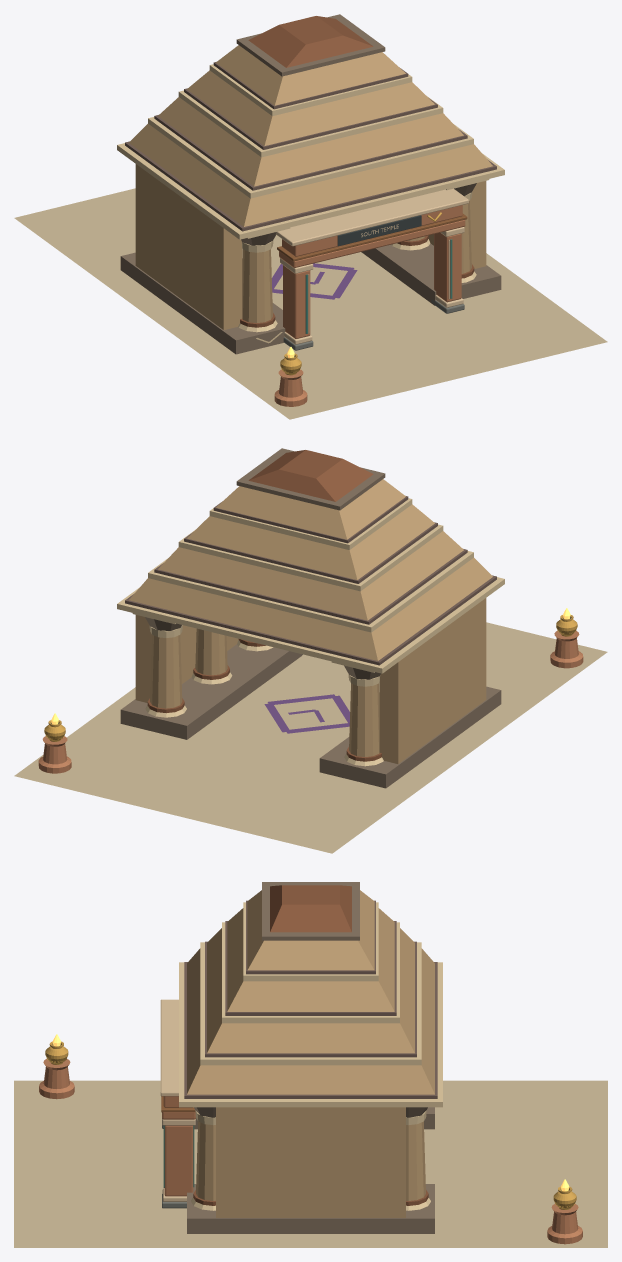
File: room-pyramid_s.glb
The picture shows the model from 3 angles, top to bottom: view 1: azimuth 30°, elevation 25°; view 2: azimuth 150°, elevation 25°; view 3: azimuth 270°, elevation 25°; orthographic projection. The views are drawn at different scales.
Visible parts, largest first — view 1: Surveyed floor · room-pyramid_s, Wing -1 inner return, Course 1 battered wall, Course 2 battered wall, Course 3 battered wall, Course 4 battered wall, Ridge crown, Shelter drip mould.001, Course 1 cornice, Wing -1 plinth, Wing 1 plinth, Course 2 cornice (+17 smaller); view 2: Surveyed floor · room-pyramid_s, Wing -1 inner return, Course 1 battered wall, Course 2 battered wall, Course 3 battered wall, Wing 1 plinth, Course 4 battered wall, Ridge crown, Course 1 cornice, Wing -1 plinth, Course 2 cornice, Wing 1 inner return (+12 smaller); view 3: Surveyed floor · room-pyramid_s, Wing 1 inner return, Course 1 battered wall, Course 2 battered wall, Course 3 battered wall, Course 4 battered wall, Wing 1 plinth, Course 1 cornice, Ridge crown, Course 2 cornice, Course 3 cornice, Fold post.003 (+11 smaller).
Part boxes in pixels (x1,y1,x2,y2): Surveyed floor · room-pyramid_s: (14, 188, 607, 419); Wing -1 inner return: (135, 164, 242, 329); Course 1 battered wall: (129, 124, 492, 226); Course 2 battered wall: (158, 97, 463, 186); Course 3 battered wall: (187, 70, 434, 145); Course 4 battered wall: (216, 45, 405, 105); Ridge crown: (248, 16, 373, 67); Shelter drip mould.001: (276, 188, 468, 246); Course 1 cornice: (117, 143, 504, 239); Wing -1 plinth: (120, 252, 285, 354); Wing 1 plinth: (361, 243, 501, 305); Course 2 cornice: (148, 117, 473, 198); Surveyed floor · room-pyramid_s: (14, 622, 607, 853); Wing -1 inner return: (379, 598, 486, 763); Course 1 battered wall: (129, 558, 492, 660); Course 2 battered wall: (158, 531, 463, 620); Course 3 battered wall: (187, 504, 434, 579); Wing 1 plinth: (120, 644, 302, 739); Course 4 battered wall: (216, 479, 405, 539); Ridge crown: (248, 450, 373, 501); Course 1 cornice: (117, 577, 504, 673); Wing -1 plinth: (319, 686, 501, 788); Course 2 cornice: (148, 551, 473, 632); Wing 1 inner return: (135, 615, 238, 702); Surveyed floor · room-pyramid_s: (14, 1080, 607, 1247); Wing 1 inner return: (216, 1107, 405, 1217); Course 1 battered wall: (187, 948, 434, 1094); Course 2 battered wall: (207, 928, 414, 1053); Course 3 battered wall: (227, 908, 394, 1011); Course 4 battered wall: (247, 890, 374, 970); Wing 1 plinth: (187, 1184, 434, 1233); Course 1 cornice: (179, 962, 442, 1107); Ridge crown: (270, 885, 351, 932); Course 2 cornice: (200, 942, 421, 1065); Course 3 cornice: (222, 922, 399, 1023); Fold post.003: (164, 1125, 193, 1196).
Size of the model in its own units: 12 by 9 by 18.
